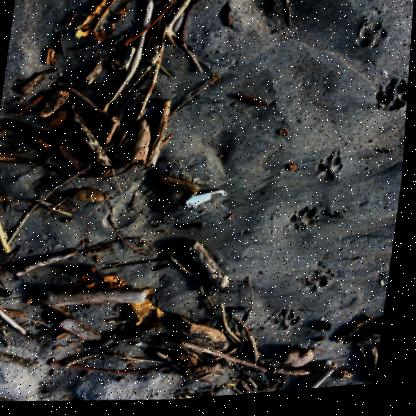Plastic: (188, 193, 229, 210)
Waste: (330, 365, 336, 372)
